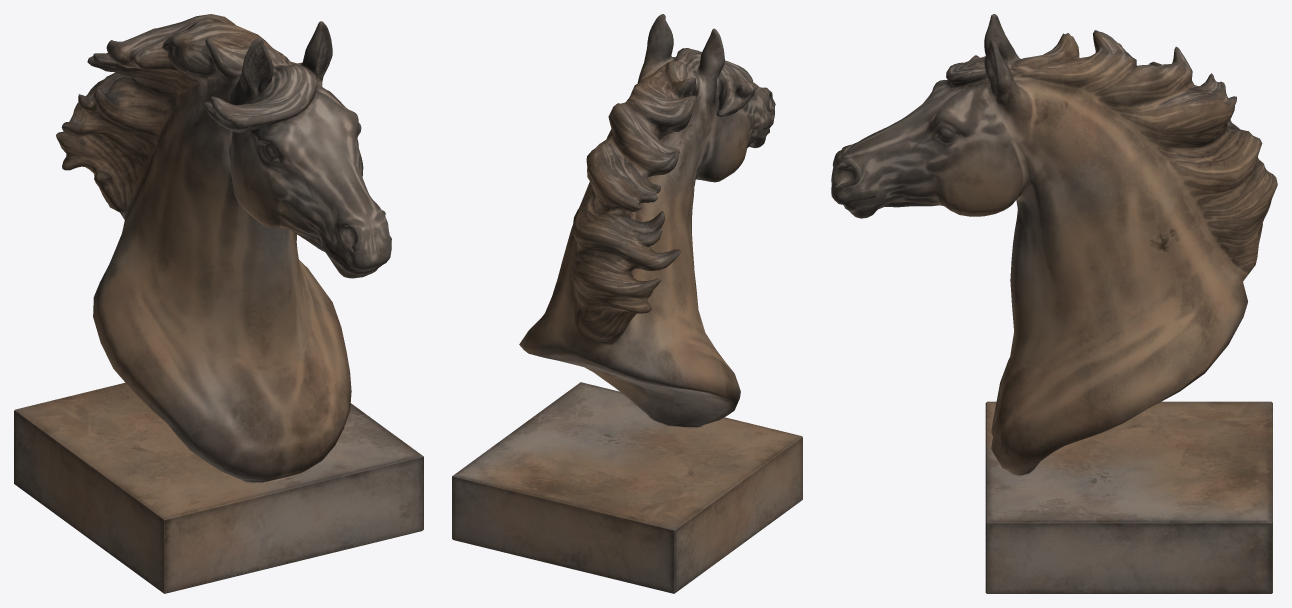
The model's file is horse_head.glb.
3 renders of one model, left to right at view 1: azimuth 30°, elevation 25°; view 2: azimuth 150°, elevation 25°; view 3: azimuth 270°, elevation 25°, orthographic. The views are drawn at different scales.
Parts seen in each view (by area): view 1: horse_head; view 2: horse_head; view 3: horse_head.
Boxes of the visible parts, x1,y1,x2,y2 form: horse_head: (14, 14, 423, 593); horse_head: (452, 14, 802, 593); horse_head: (831, 14, 1277, 593).
Bounding box in the file's own units: 0.2149 × 0.4187 × 0.3341.
1 material, 1 textured.
